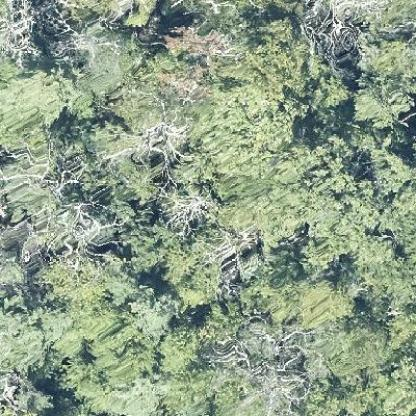tree-top: (0, 61, 97, 133), (349, 32, 415, 125), (40, 248, 144, 302), (250, 280, 358, 328), (79, 21, 146, 96), (159, 238, 227, 305), (129, 292, 183, 349), (118, 211, 164, 276), (0, 374, 52, 415), (164, 182, 214, 223)
